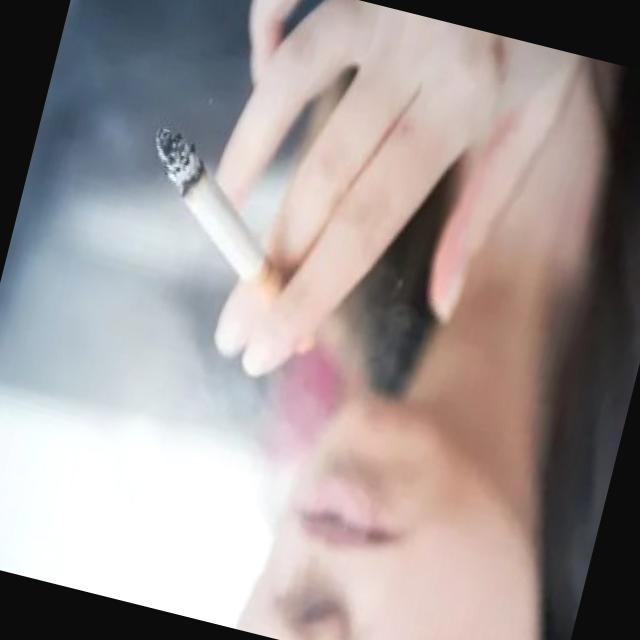cigarette: (118, 119, 316, 318)
